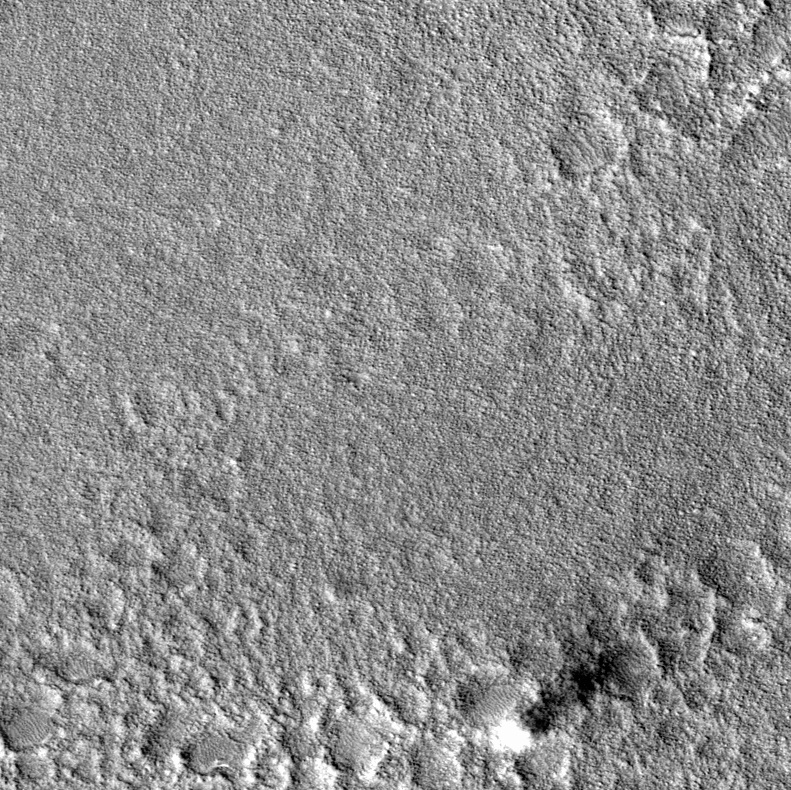dust_devil: (487, 638, 641, 756)
